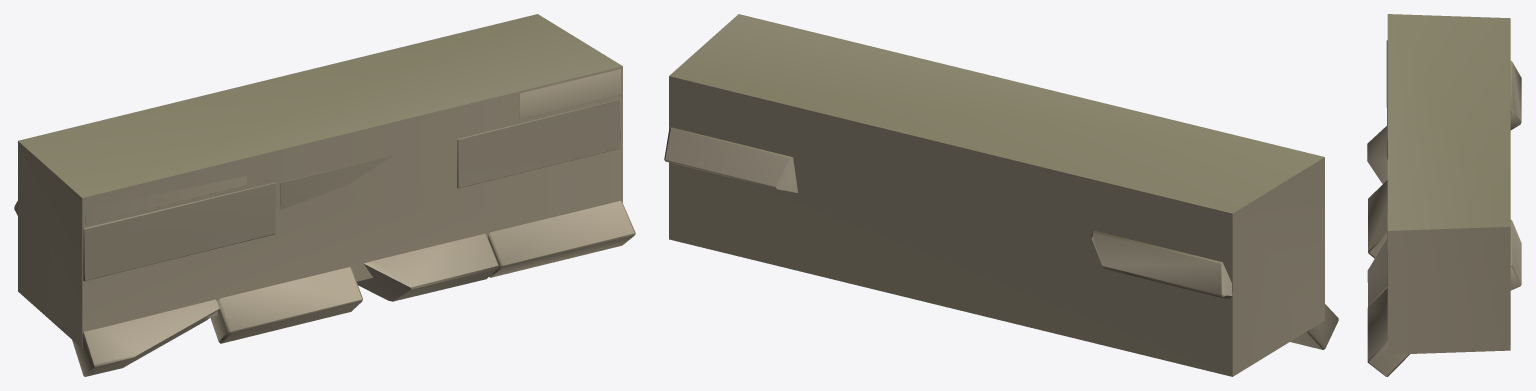
Rendered from arena_vault_broken_a.glb.
3 views of the same model, side by side, from view 1: azimuth 30°, elevation 25°; view 2: azimuth 150°, elevation 25°; view 3: azimuth 270°, elevation 25° (orthographic). The views are drawn at different scales.
Parts seen in each view (by area): view 1: arena_vault_broken_a_far, arena_vault_broken_a; view 2: arena_vault_broken_a_far, arena_vault_broken_a; view 3: arena_vault_broken_a_far, arena_vault_broken_a.
Part boxes in pixels (<box>): arena_vault_broken_a_far: <box>18,14,622,348</box>; arena_vault_broken_a: <box>14,69,635,376</box>; arena_vault_broken_a_far: <box>669,14,1324,376</box>; arena_vault_broken_a: <box>664,127,1338,349</box>; arena_vault_broken_a_far: <box>1387,14,1510,354</box>; arena_vault_broken_a: <box>1367,40,1521,376</box>.
Size of the model in its own units: 18.86 by 5.93 by 5.66.
